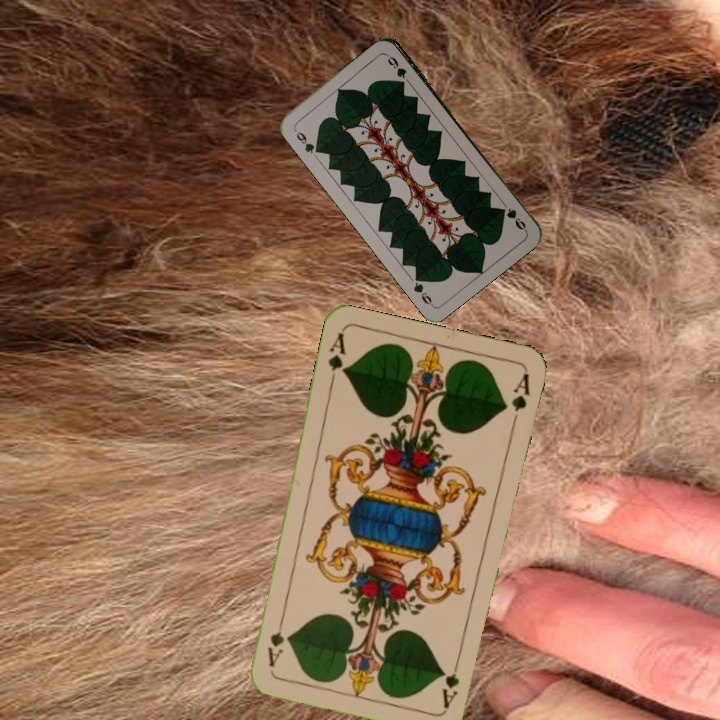G9: (289, 124, 323, 156), (502, 204, 530, 234)
GA: (323, 328, 349, 387), (438, 652, 463, 710)
